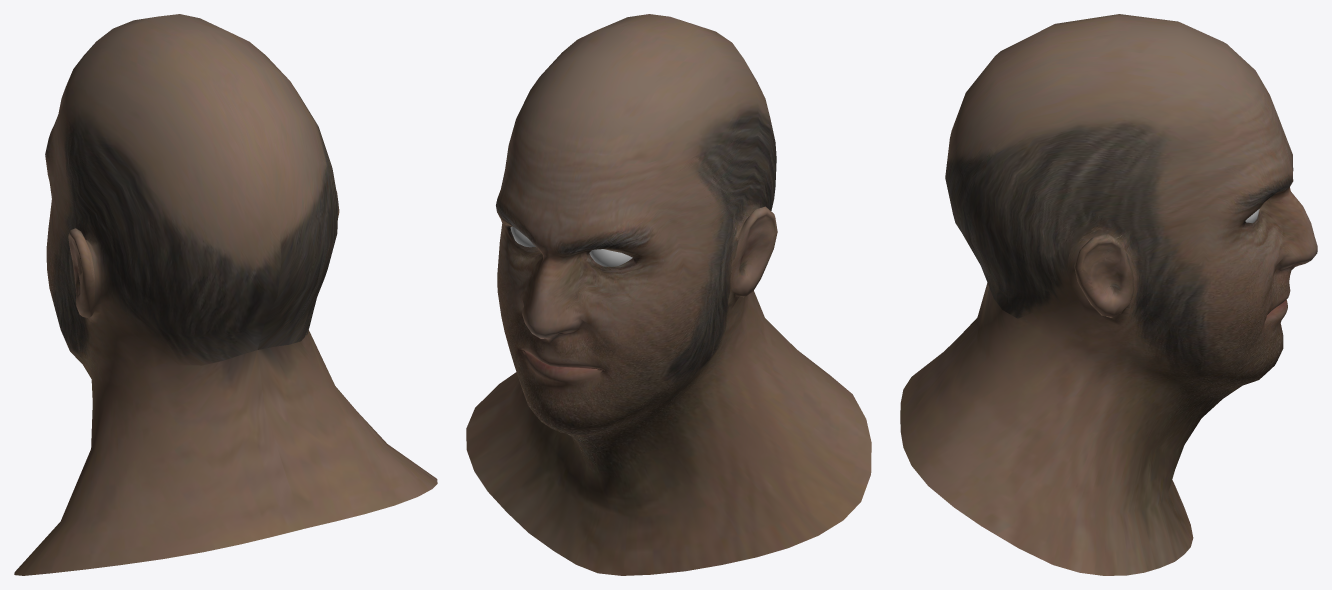
File: G3_Head_Fat_Animated_02_S02.obj
3 views of the same model, side by side, from view 1: azimuth 30°, elevation 25°; view 2: azimuth 150°, elevation 25°; view 3: azimuth 270°, elevation 25° (orthographic). The views are drawn at different scales.
Parts seen in each view (by area): view 1: G3_Animation_Head_Fat_Main_02; view 2: G3_Animation_Head_Fat_Main_02; view 3: G3_Animation_Head_Fat_Main_02.
Boxes of the visible parts, left/top/right/bottom form: G3_Animation_Head_Fat_Main_02: left=14, top=14, right=437, bottom=575; G3_Animation_Head_Fat_Main_02: left=466, top=14, right=871, bottom=575; G3_Animation_Head_Fat_Main_02: left=900, top=14, right=1317, bottom=575.
Bounding box in the file's own units: 0.2886 × 0.368 × 0.2707.
